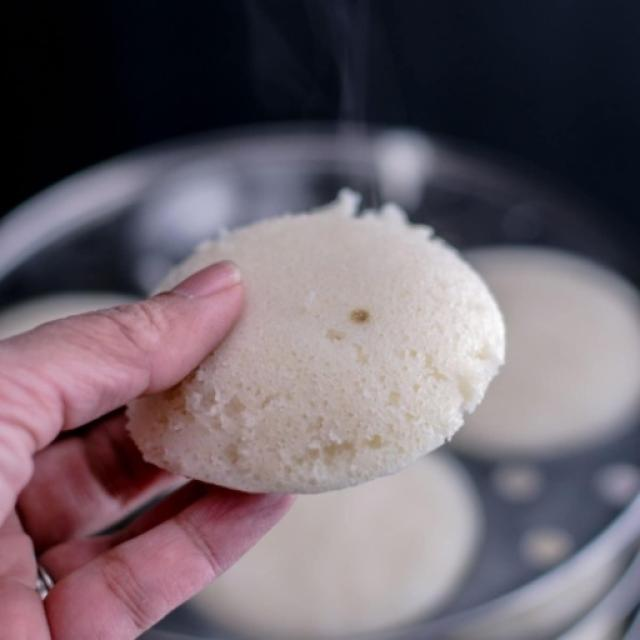IDLI: (128, 192, 504, 491)
